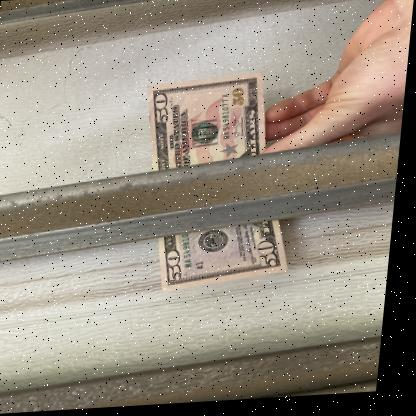fifty-front: (143, 69, 291, 294)
